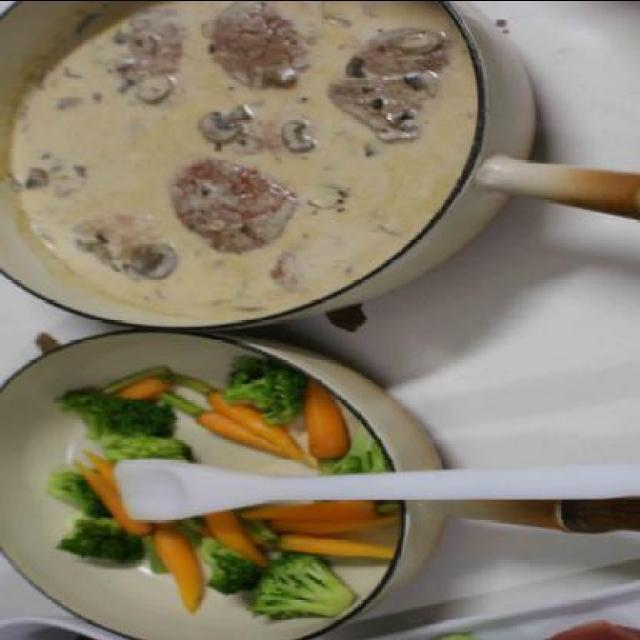Carrot: (83, 371, 399, 587)
